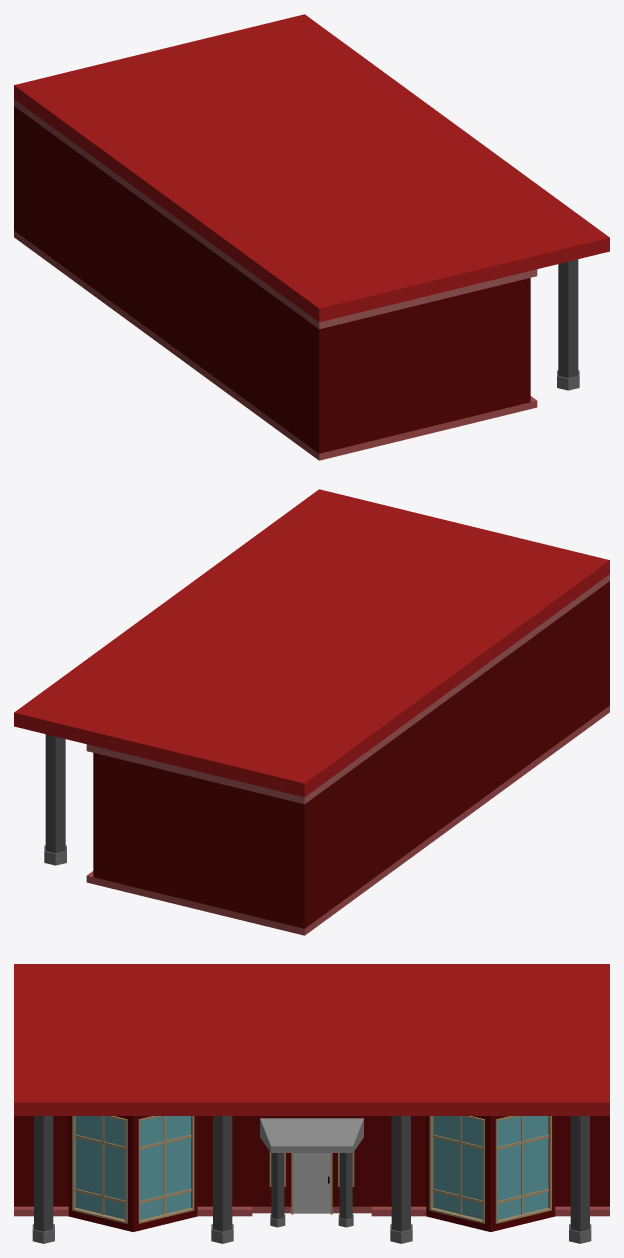
File: Building_11.fbx
3 views of the same model, one above another, from view 1: azimuth 30°, elevation 25°; view 2: azimuth 150°, elevation 25°; view 3: azimuth 270°, elevation 25° (orthographic). The views are drawn at different scales.
Parts seen in each view (by area): view 1: pCube49; view 2: pCube49; view 3: pCube49.
Part boxes in pixels (<box>): pCube49: <box>14,14,609,460</box>; pCube49: <box>14,489,609,935</box>; pCube49: <box>14,964,609,1243</box>.
Bounding box in the file's own units: 11 × 5.5 × 20.
